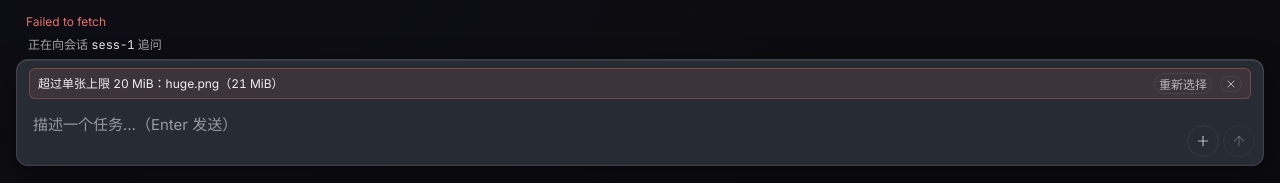
Test: Composer 附图：#825 AC2/AC3 预检与提示 › 超限整批被拒：卡片不入栏，原因常驻并带文件名与上限
The image size is (1280, 183).
Expected: the message with class "composer-attach-error" shows "huge.png", x1=38 y1=76 x2=284 y2=91
Expected: the message with class "composer-attach-error" shows "超过单张上限 20 MiB", x1=38 y1=76 x2=284 y2=91
常驻：错误提示只有用户关掉才消失（不自动退场）。
Click the button named "关闭错误提示".
click(1231, 84)  # box x1=1220 y1=76 x2=1242 y2=92
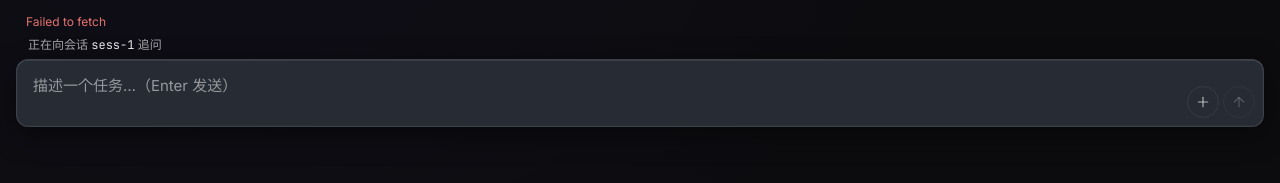
Result: the message with class "composer-attach-error" is gone
